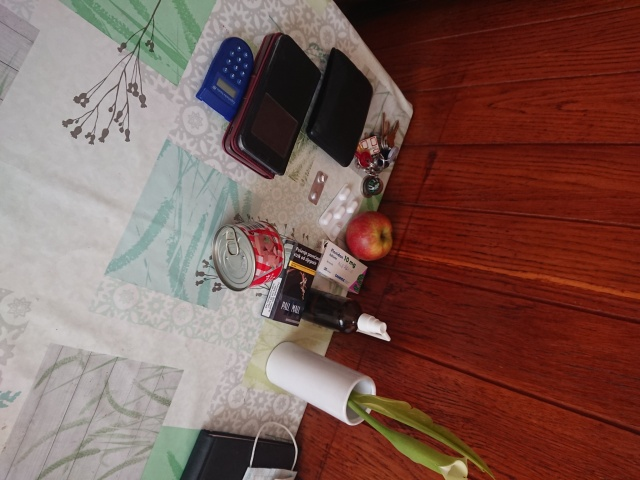Podravka Luncheon Meat 150g: (210, 219, 287, 293)
